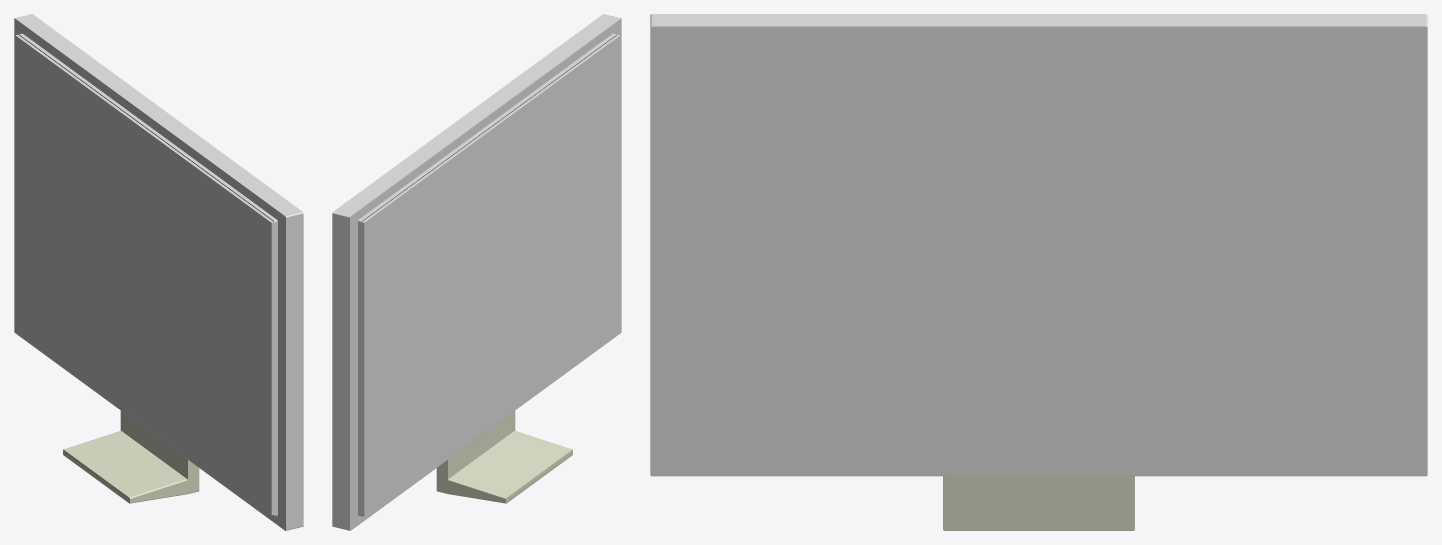
File: computer.glb
The picture shows the model from 3 angles, left to right: view 1: azimuth 30°, elevation 25°; view 2: azimuth 150°, elevation 25°; view 3: azimuth 270°, elevation 25°; orthographic projection. The views are drawn at different scales.
Visible parts, largest first — view 1: Screen, Body; view 2: Screen, Body; view 3: Body.
Part boxes in pixels (x1,y1,x2,y2): Screen: (15,34,274,515); Body: (14,14,303,530); Screen: (361,34,620,515); Body: (332,14,621,530); Body: (650,14,1427,530).
Bounding box in the file's own units: 1.42 × 6.69 × 9.32.
